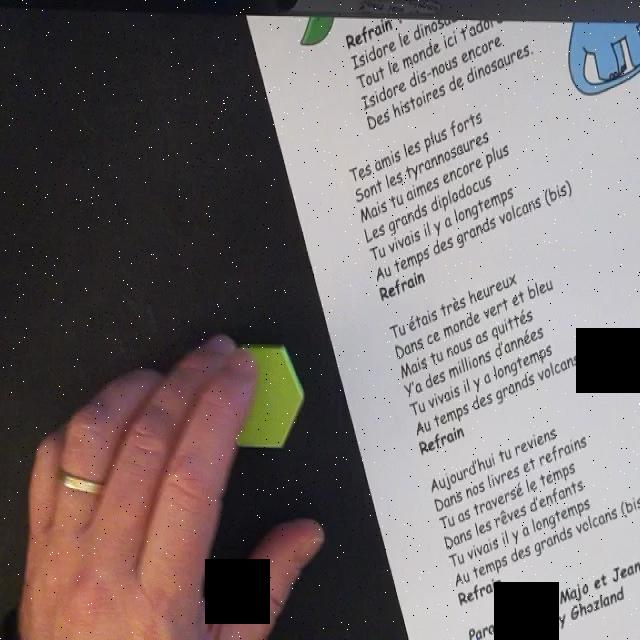hexagon: (215, 344, 307, 449)
